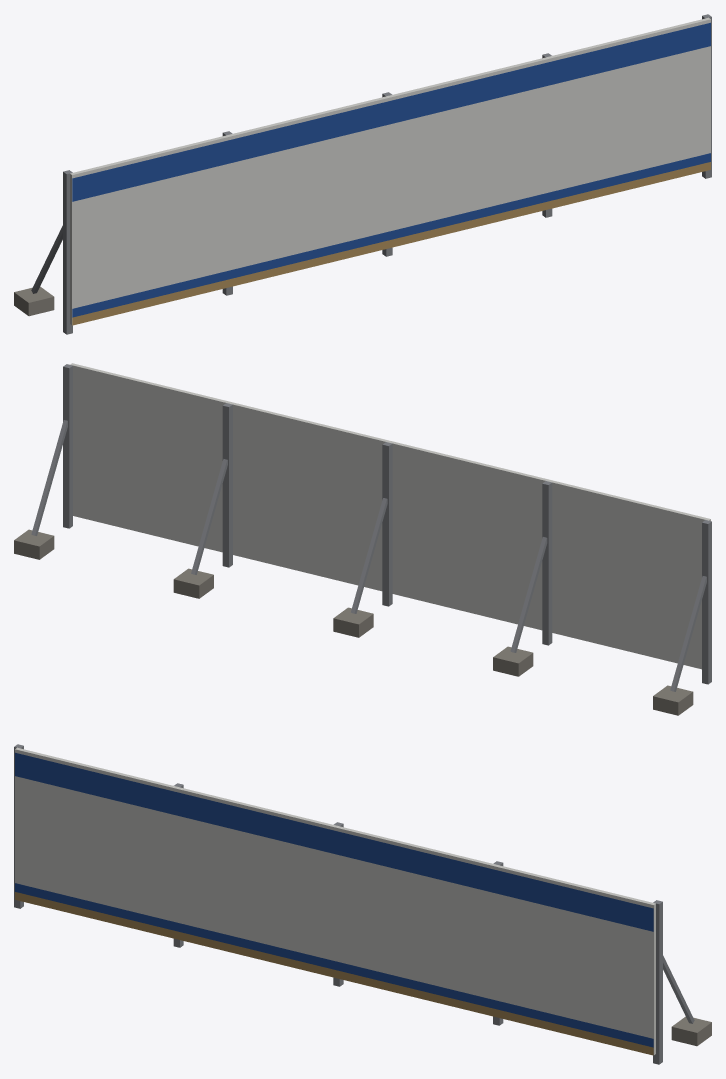
Rendered from prop_hoarding.glb.
3 renders of one model, top to bottom at view 1: azimuth 30°, elevation 25°; view 2: azimuth 150°, elevation 25°; view 3: azimuth 330°, elevation 25°, orthographic.
Parts seen in each view (by area): view 1: body; view 2: body; view 3: body.
Part boxes in pixels (left/top/right/bottom): body: left=14, top=14, right=711, bottom=334; body: left=14, top=363, right=711, bottom=715; body: left=14, top=744, right=711, bottom=1064.
Bounding box in the file's own units: 10.4 × 2.4 × 1.23.
